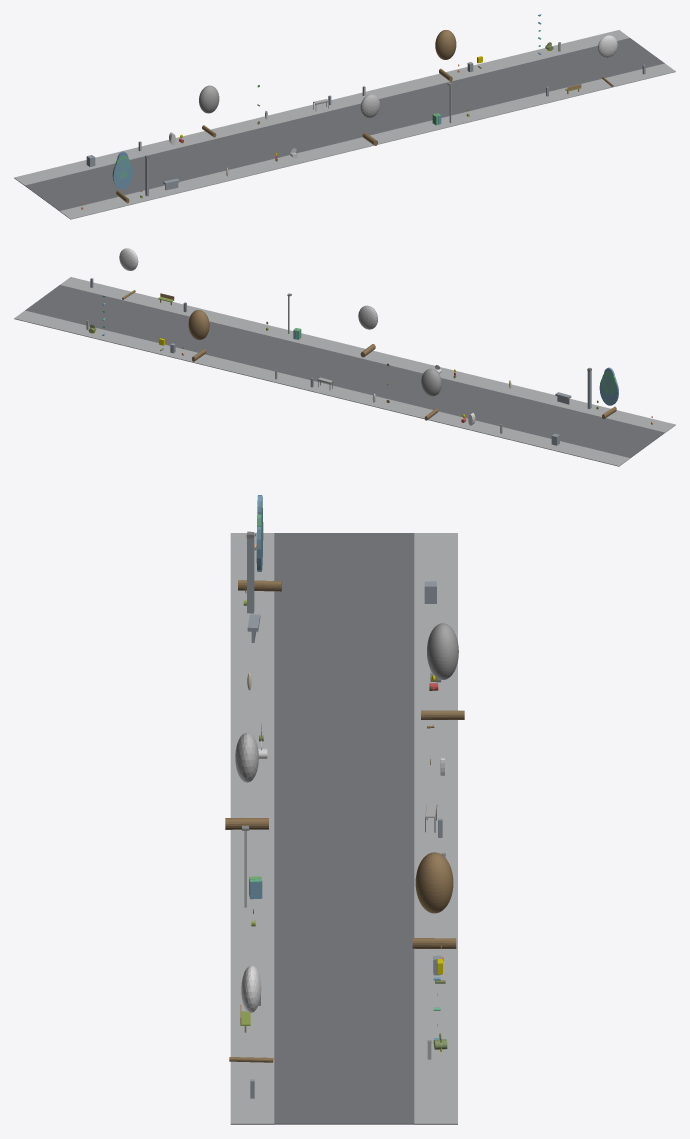
The picture shows the model from 3 angles, top to bottom: view 1: azimuth 30°, elevation 25°; view 2: azimuth 150°, elevation 25°; view 3: azimuth 270°, elevation 25°; orthographic projection. The views are drawn at different scales.
Visible parts, largest first — view 1: road_slab, sidewalk_left, sidewalk_right, inst_0012, inst_0015, inst_0013, inst_0014, inst_0016; view 2: road_slab, sidewalk_right, sidewalk_left, inst_0012, inst_0015, inst_0013, inst_0014, inst_0016; view 3: road_slab, sidewalk_left, sidewalk_right, inst_0015, inst_0013, inst_0014, inst_0016, inst_0012.
Part boxes in pixels (x1=…): road_slab: x1=25, y1=38, x2=664, y2=211; sidewalk_left: x1=60, y1=63, x2=675, y2=219; sidewalk_right: x1=14, y1=30, x2=629, y2=185; inst_0012: x1=112, y1=151, x2=132, y2=203; inst_0015: x1=435, y1=30, x2=456, y2=81; inst_0013: x1=199, y1=85, x2=219, y2=137; inst_0014: x1=360, y1=94, x2=380, y2=145; inst_0016: x1=597, y1=35, x2=617, y2=86; road_slab: x1=25, y1=285, x2=664, y2=458; sidewalk_right: x1=14, y1=310, x2=629, y2=466; sidewalk_left: x1=60, y1=277, x2=675, y2=432; inst_0012: x1=599, y1=367, x2=618, y2=419; inst_0015: x1=188, y1=310, x2=209, y2=361; inst_0013: x1=421, y1=368, x2=441, y2=420; inst_0014: x1=358, y1=305, x2=377, y2=357; inst_0016: x1=119, y1=248, x2=138, y2=299; road_slab: x1=274, y1=533, x2=414, y2=1124; sidewalk_left: x1=230, y1=533, x2=274, y2=1124; sidewalk_right: x1=414, y1=533, x2=457, y2=1124; inst_0015: x1=412, y1=852, x2=456, y2=948; inst_0013: x1=421, y1=623, x2=464, y2=719; inst_0014: x1=225, y1=733, x2=268, y2=829; inst_0016: x1=229, y1=965, x2=273, y2=1062; inst_0012: x1=238, y1=495, x2=281, y2=591.
Size of the model in its own units: 80 by 6.08 by 13.71.
